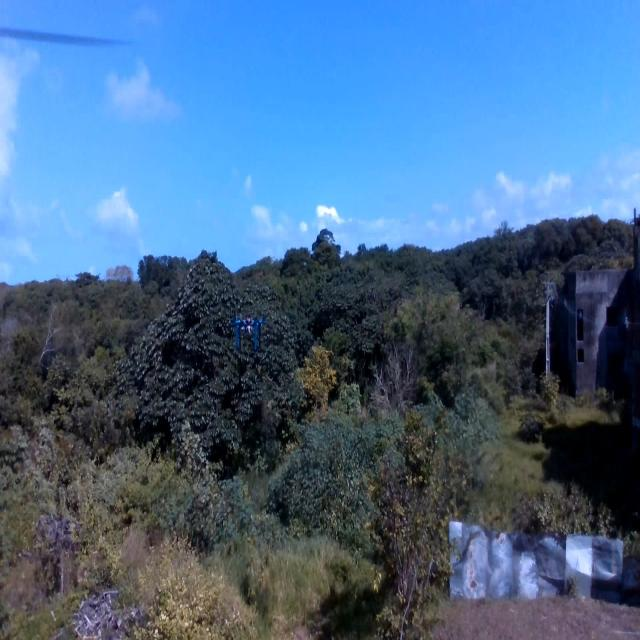-uav-: (223, 295, 270, 374)
